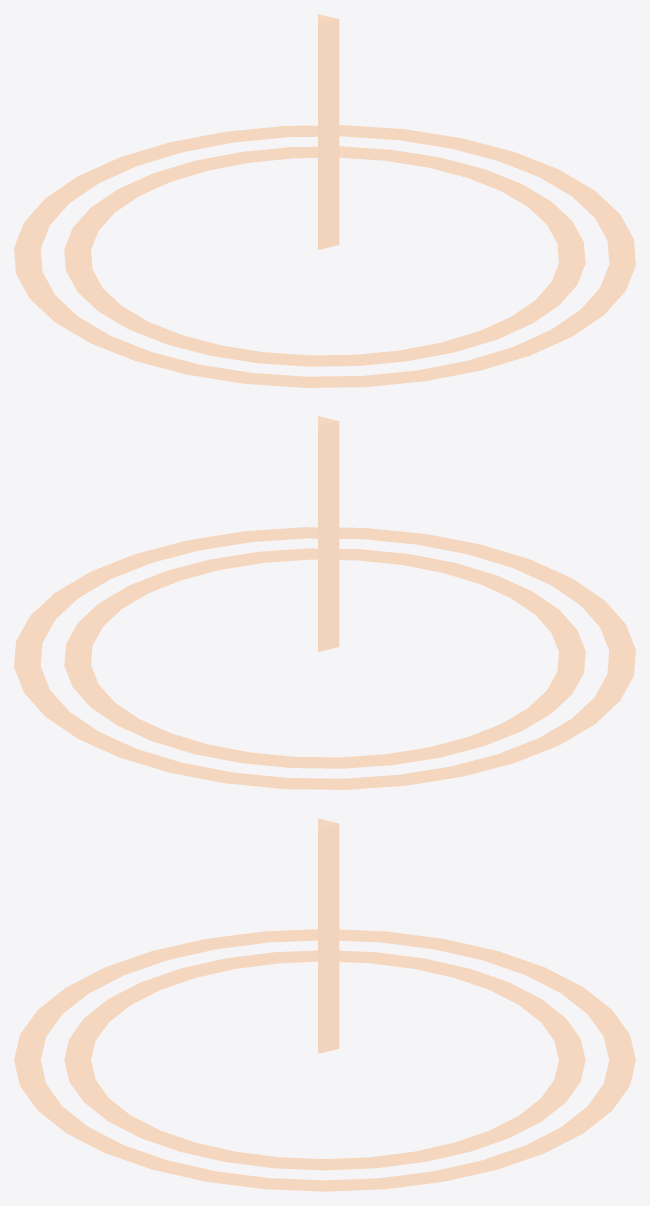
The model's file is Rectile.gltf.
The picture shows the model from 3 angles, top to bottom: view 1: azimuth 30°, elevation 25°; view 2: azimuth 150°, elevation 25°; view 3: azimuth 270°, elevation 25°; orthographic projection.
Parts seen in each view (by area): view 1: Circle; view 2: Circle; view 3: Circle.
Part boxes in pixels (bbox=[...]): Circle: bbox=[14, 14, 635, 387]; Circle: bbox=[14, 416, 635, 789]; Circle: bbox=[14, 818, 635, 1191].
Size of the model in its own units: 1.32 by 0.555 by 1.32.
